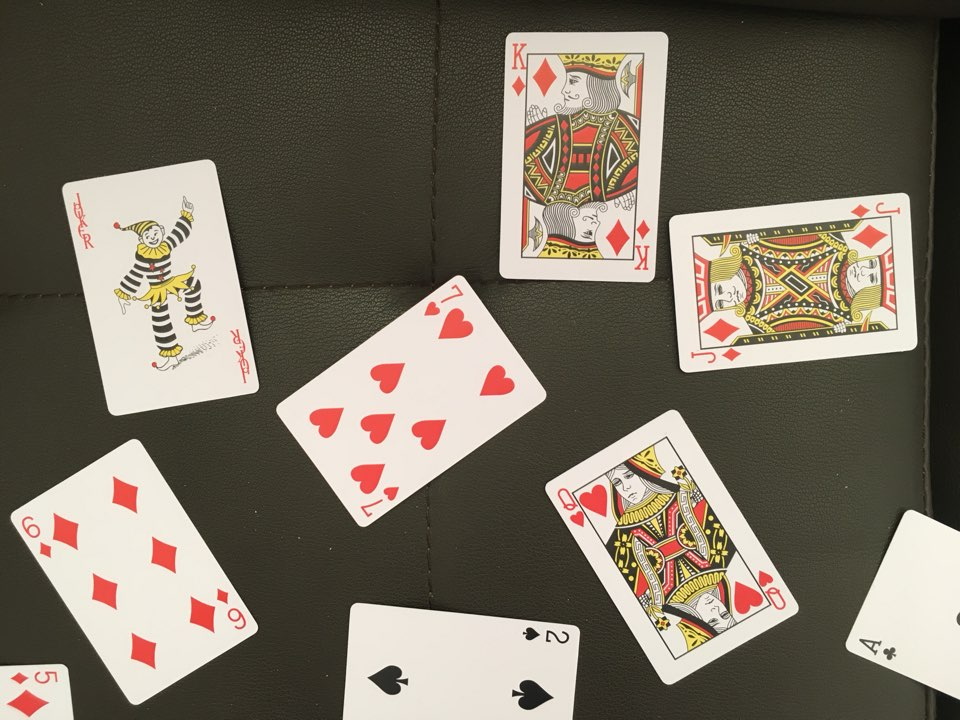ace: (841, 500, 960, 705)
jack: (662, 190, 930, 379)
king: (493, 21, 668, 290)
queen: (540, 404, 809, 691)
